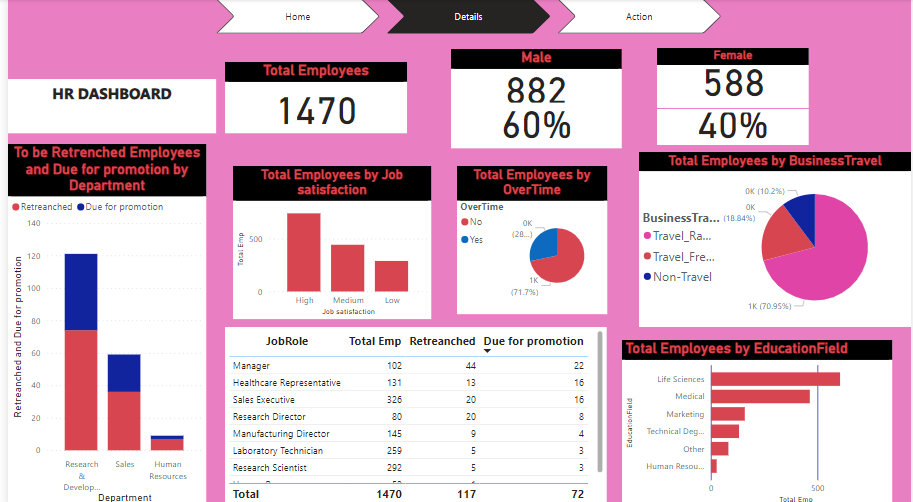

Layout of this report page (visuals, bound fields, positions):
{"tool":"powerbi","page":{"name":"Details","canvas":[1280,720],"ordinal":1},"visuals":[{"type":"textbox","box":[0,113.4,294.8,76.5],"z":4000},{"type":"card","title":"Total Employees","fields":{"Values":["All Measures.Total Emp"]},"box":[307.6,89.3,258,100.6],"z":5000},{"type":"card","title":"Male","fields":{"Values":["All Measures.Male"]},"box":[627.9,70.9,242.4,80.8],"z":6000},{"type":"card","title":"Female","fields":{"Values":["All Measures.Female"]},"box":[919.8,69.4,215.4,85],"z":8000},{"type":"card","fields":{"Values":["All Measures.% male"]},"box":[627.9,151.7,242.4,59.5],"z":9000},{"type":"card","fields":{"Values":["All Measures.% female"]},"box":[919.8,155.9,215.4,51],"z":10000},{"type":"columnChart","title":"To be Retrenched Employees and Due for promotion by Department","fields":{"Category":["HR-Employee-Attrition.Department"],"Y":["All Measures.Retreanched","All Measures.Due for promotion"]},"box":[0,205.5,280.6,514.5],"z":13000},{"type":"clusteredColumnChart","title":"Total Employees by Job satisfaction","fields":{"Category":["HR-Employee-Attrition.Job satisfaction"],"Y":["All Measures.Total Emp"]},"box":[318.9,236.7,280.6,216.9],"z":17000},{"type":"pieChart","title":"Total Employees by OverTime","fields":{"Category":["HR-Employee-Attrition.OverTime"],"Y":["All Measures.Total Emp"]},"box":[636.4,236.7,212.6,209.8],"z":18000},{"type":"tableEx","fields":{"Values":["HR-Employee-Attrition.JobRole","All Measures.Total Emp","All Measures.Retreanched","All Measures.Due for promotion"]},"box":[307.6,464.9,541.4,253.7],"z":19000},{"type":"pieChart","title":"Total Employees by BusinessTravel","fields":{"Category":["HR-Employee-Attrition.BusinessTravel"],"Y":["All Measures.Total Emp"]},"box":[894.3,216.9,385.5,248],"z":20000},{"type":"barChart","title":"Total Employees by EducationField","fields":{"Category":["HR-Employee-Attrition.EducationField"],"Y":["All Measures.Total Emp"]},"box":[870.2,483.3,382.7,236.7],"z":22000},{"type":"pageNavigator","box":[294.8,0,717.2,49.6],"z":22001}]}

Visuals, with their boxes in screenshot pixels (x1, y1, x2, y2), scaled from the page's 1280x720 canvas onto the 913x502 screenshot:
textbox: (0, 79, 210, 132)
"Total Employees" card: (219, 62, 403, 132)
"Male" card: (448, 49, 621, 106)
"Female" card: (656, 48, 810, 108)
card - All Measures.% male: (448, 106, 621, 147)
card - All Measures.% female: (656, 109, 810, 144)
"To be Retrenched Employees and Due for promotion by Department" columnChart: (0, 143, 200, 501)
"Total Employees by Job satisfaction" clusteredColumnChart: (227, 165, 428, 316)
"Total Employees by OverTime" pieChart: (454, 165, 606, 311)
tableEx - HR-Employee-Attrition.JobRole x All Measures.Total Emp: (219, 324, 606, 501)
"Total Employees by BusinessTravel" pieChart: (638, 151, 912, 324)
"Total Employees by EducationField" barChart: (621, 337, 894, 501)
pageNavigator: (210, 0, 722, 35)
